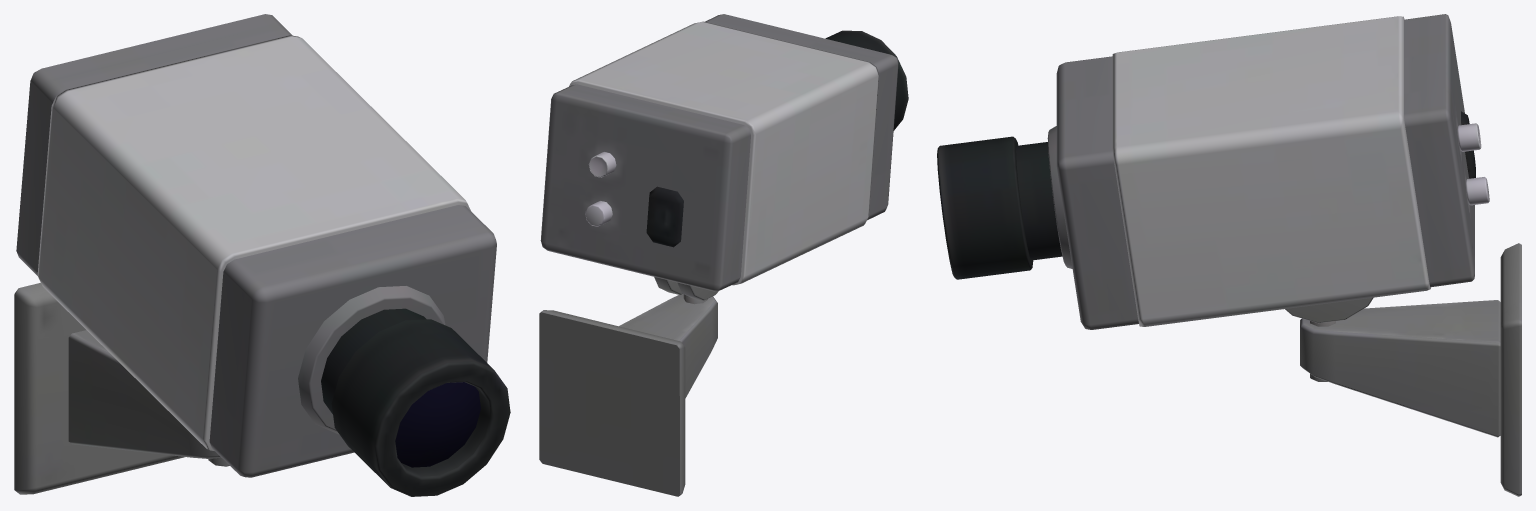
The picture shows the model from 3 angles, left to right: view 1: azimuth 30°, elevation 25°; view 2: azimuth 150°, elevation 25°; view 3: azimuth 270°, elevation 25°; orthographic projection. The views are drawn at different scales.
Size of the model in its own units: 3.03 by 5.29 by 7.05.
1 material, 1 textured.
